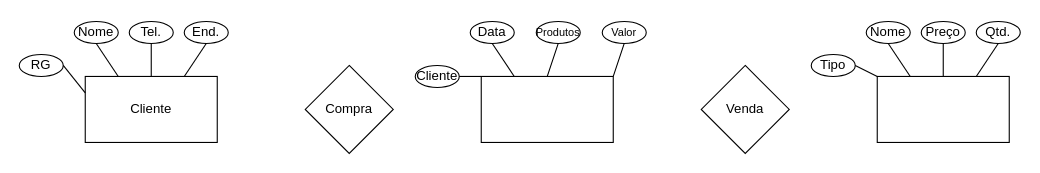
The diagram is 1040 pixels wide and 173 high, and some of its shapes have lost their labels. The centre of each missing label's shape, as x and y in pixels:
"Estoque" belongs at pixel 942 108.
"Produto Vendido" belongs at pixel 546 108.
